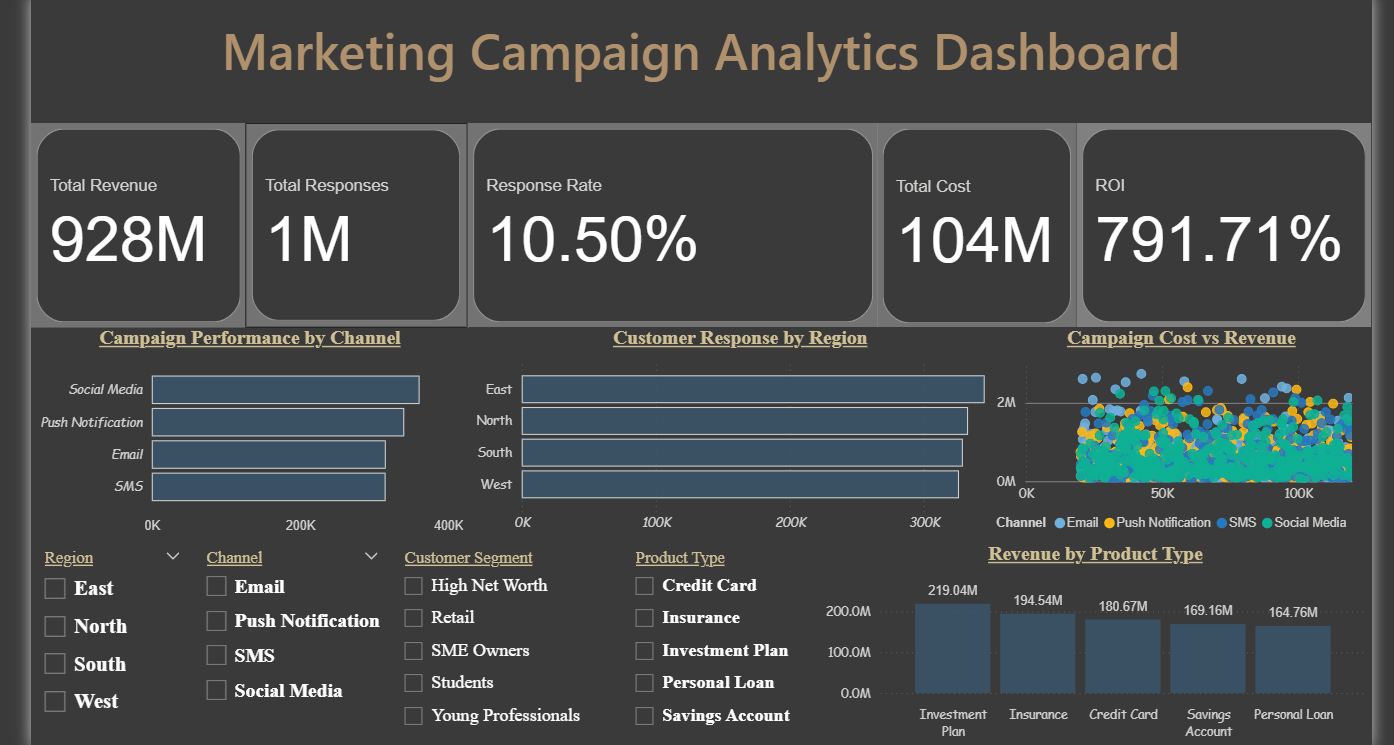

What the dashboard file says about the page in this screenshot:
{"tool":"powerbi","page":{"name":"Page 1","canvas":[1280,720],"ordinal":0},"visuals":[{"type":"cardVisual","title":"Total Revenue","fields":{"Data":["campaign.Total Revenue"]},"box":[0.5,123.2,205.9,195.3],"z":0,"group":"g1"},{"type":"clusteredBarChart","title":"Campaign Performance by Channel","fields":{"Category":["campaign.Channel"],"Y":["Sum(campaign.Total_Responses)"]},"box":[0,318,417.9,205.9],"z":0},{"type":"group","id":"g1","title":"Group 1","box":[0.5,122.7,997.2,196],"z":1000},{"type":"cardVisual","title":"Total Campaign Cost","fields":{"Data":["campaign.Total Cost"]},"box":[807.7,122.7,190,196],"z":1000,"group":"g1"},{"type":"cardVisual","title":"Total Responses","fields":{"Data":["campaign.Total Responses"]},"box":[205.6,123.2,212,195.3],"z":2000,"group":"g1"},{"type":"cardVisual","title":"Response Rate","fields":{"Data":["campaign.Response Rate"]},"box":[417.6,123.2,392.2,195.3],"z":3000,"group":"g1"},{"type":"clusteredColumnChart","title":"Revenue by Product Type","fields":{"Category":["campaign.Product_Type"],"Y":["Sum(campaign.Total_Revenue)"]},"box":[754,524,526,196],"z":3000},{"type":"textbox","box":[0,0,1280,122],"z":3500},{"type":"clusteredBarChart","title":"Customer Response by Region","fields":{"Category":["campaign.Region"],"Y":["Sum(campaign.Total_Responses)"]},"box":[417.9,318,517.9,205.9],"z":4000},{"type":"cardVisual","title":"ROI","fields":{"Data":["campaign.ROI"]},"box":[997.9,122.7,281.6,195.3],"z":4500},{"type":"scatterChart","title":"Campaign Cost vs Revenue","fields":{"X":["campaign.Total_Cost"],"Y":["Sum(campaign.Total_Revenue)"],"Series":["campaign.Channel"]},"box":[916.1,318,363.4,205.9],"z":5000},{"type":"slicer","fields":{"Values":["campaign.Channel"]},"box":[154.4,524,189.3,195.3],"z":6000,"group":"g2"},{"type":"slicer","fields":{"Values":["campaign.Region"]},"box":[0,523.9,154.4,195.3],"z":7000,"group":"g2"},{"type":"slicer","fields":{"Values":["campaign.Customer_Segment"]},"box":[343.7,524,219.6,195.3],"z":8000,"group":"g2"},{"type":"slicer","fields":{"Values":["campaign.Product_Type"]},"box":[564,523.9,190,196],"z":9000,"group":"g2"},{"type":"group","id":"g2","title":"Group 2","box":[0,523.9,754,196],"z":9001}]}

Visuals, with their boxes on the page's 1280x720 design canvas (x1, y1, x2, y2). These are canvas units, not pixel positions in the 1394x745 screenshot, which may show the page scaled, cropped or inside an application window:
"Total Revenue" cardVisual: x1=0 y1=123 x2=206 y2=318
"Campaign Performance by Channel" clusteredBarChart: x1=0 y1=318 x2=418 y2=524
"Group 1" group: x1=0 y1=123 x2=998 y2=319
"Total Campaign Cost" cardVisual: x1=808 y1=123 x2=998 y2=319
"Total Responses" cardVisual: x1=206 y1=123 x2=418 y2=318
"Response Rate" cardVisual: x1=418 y1=123 x2=810 y2=318
"Revenue by Product Type" clusteredColumnChart: x1=754 y1=524 x2=1280 y2=720
textbox: x1=0 y1=0 x2=1280 y2=122
"Customer Response by Region" clusteredBarChart: x1=418 y1=318 x2=936 y2=524
"ROI" cardVisual: x1=998 y1=123 x2=1280 y2=318
"Campaign Cost vs Revenue" scatterChart: x1=916 y1=318 x2=1280 y2=524
slicer - campaign.Channel: x1=154 y1=524 x2=344 y2=719
slicer - campaign.Region: x1=0 y1=524 x2=154 y2=719
slicer - campaign.Customer_Segment: x1=344 y1=524 x2=563 y2=719
slicer - campaign.Product_Type: x1=564 y1=524 x2=754 y2=720
"Group 2" group: x1=0 y1=524 x2=754 y2=720
